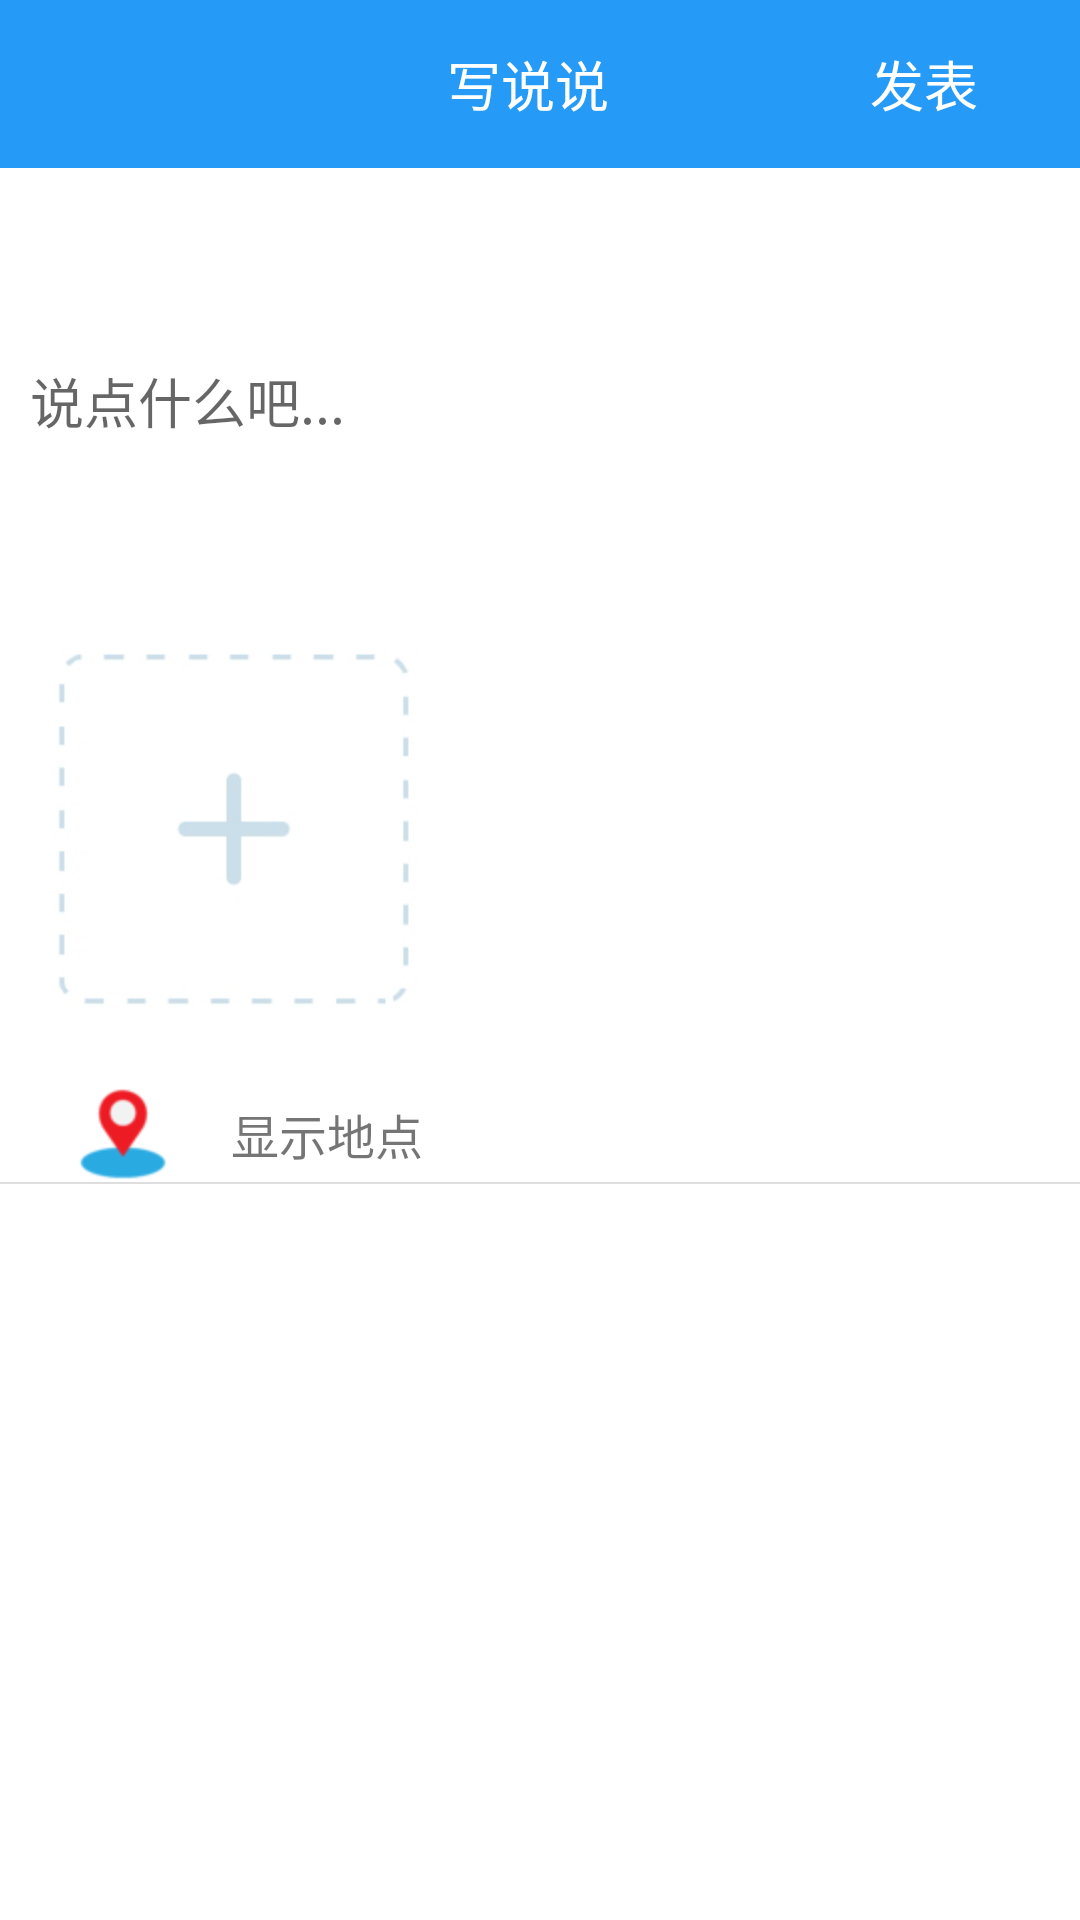

Named icons in this screenshot (1080px×1920px) and their bounding boxes, (x1, y1, x2, y2):
location: (80, 1089, 166, 1179)
